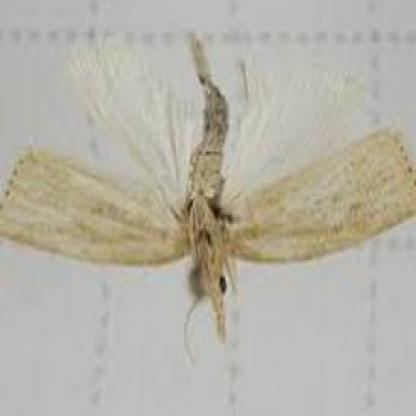stem-borer: (0, 47, 416, 334)
